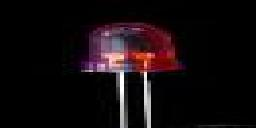LED: (78, 22, 190, 89)
